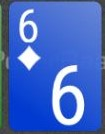Diamond: (17, 46, 42, 71)
